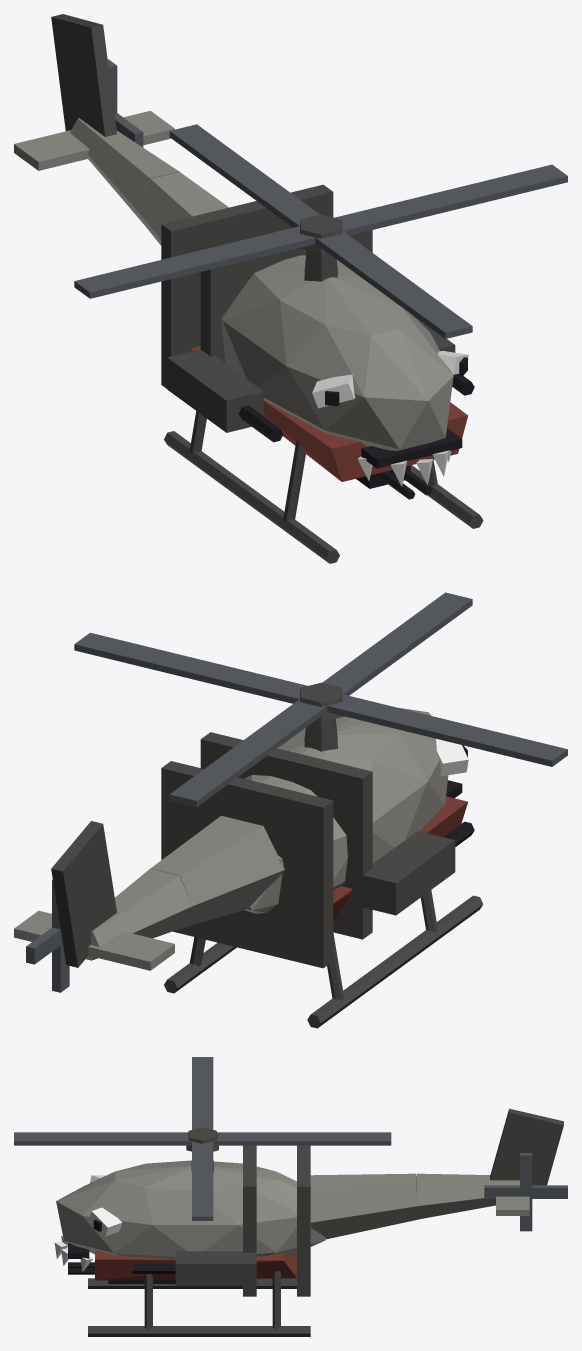
File: helirov.glb
3 renders of one model, top to bottom at view 1: azimuth 30°, elevation 25°; view 2: azimuth 150°, elevation 25°; view 3: azimuth 270°, elevation 25°, orthographic. The views are drawn at different scales.
Visible parts, largest first — view 1: Body, Rotor, TailRotor; view 2: Body, Rotor, TailRotor; view 3: Body, Rotor, TailRotor.
Boxes of the visible parts, x1,y1,x2,y2 form: Body: (14,14,483,563); Rotor: (74,124,567,338); TailRotor: (107,59,143,147); Body: (14,707,483,1028); Rotor: (74,592,567,807); TailRotor: (26,879,69,992); Body: (54,1108,563,1336); Rotor: (14,1057,391,1220); TailRotor: (484,1153,567,1231).
Bounding box in the file's own units: 2.8 × 1.65 × 4.11.
